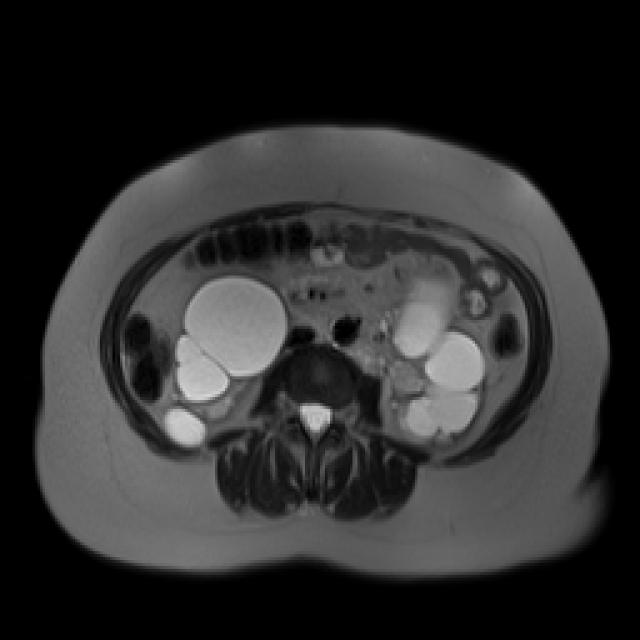sag: (163, 273, 290, 447)
sol: (377, 269, 487, 447)
